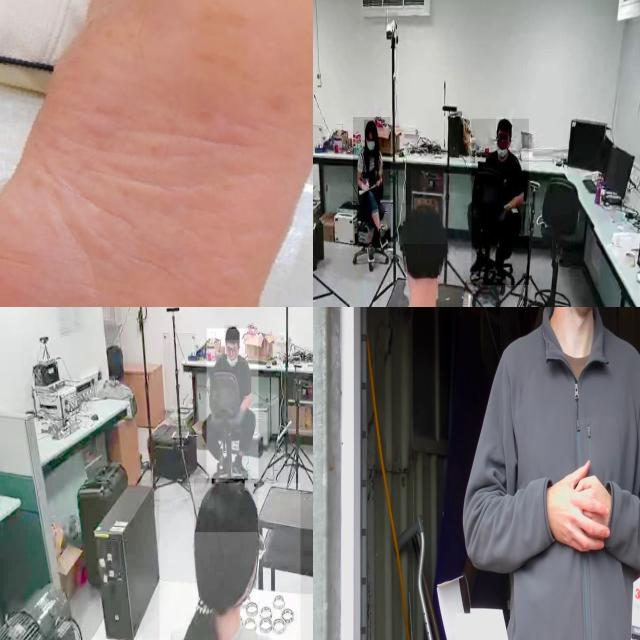Barefoots: (0, 0, 313, 307)
face_mask: (364, 130, 378, 158)
face_nomask: (497, 128, 509, 150)
hand_noglove: (374, 177, 382, 191), (362, 178, 370, 192)
head_nohelmet: (194, 478, 258, 533), (399, 205, 446, 244), (224, 325, 240, 341), (496, 118, 512, 129), (364, 120, 377, 131)
person: (159, 483, 300, 640), (363, 207, 481, 307), (472, 119, 530, 286), (207, 328, 259, 478), (353, 117, 391, 248)
shoes: (230, 451, 250, 479)
